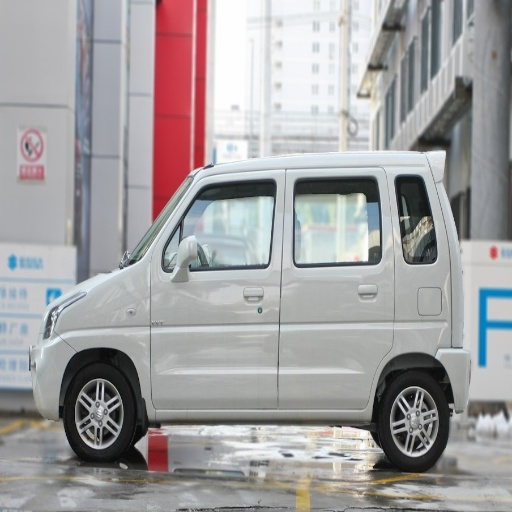front_left_door: (151, 173, 286, 408)
trunk: (400, 311, 468, 399)
